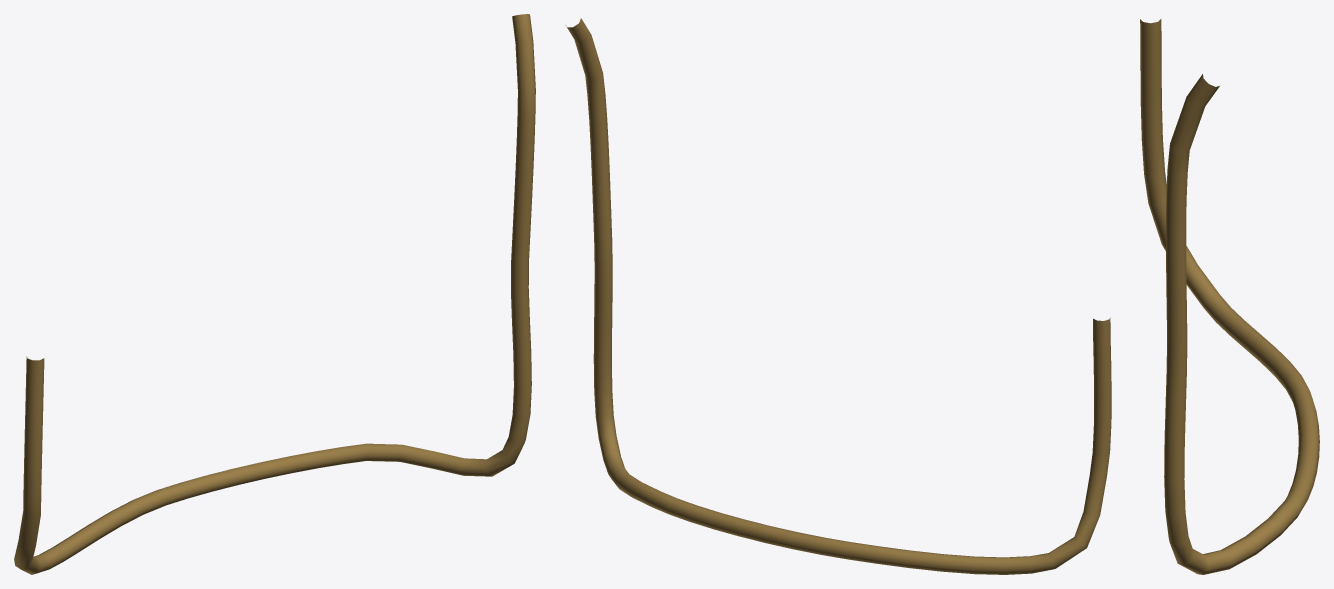
The model's file is SM_TD2_Cable_Tutorial.gltf.
The picture shows the model from 3 angles, left to right: view 1: azimuth 30°, elevation 25°; view 2: azimuth 150°, elevation 25°; view 3: azimuth 270°, elevation 25°; orthographic projection. The views are drawn at different scales.
Visible parts, largest first — view 1: SM_TD2_Cable_Tutorial; view 2: SM_TD2_Cable_Tutorial; view 3: SM_TD2_Cable_Tutorial.
Boxes of the visible parts, box(x1,y1,x2,y2) form: SM_TD2_Cable_Tutorial: box(14, 14, 535, 574); SM_TD2_Cable_Tutorial: box(565, 18, 1111, 574); SM_TD2_Cable_Tutorial: box(1140, 19, 1319, 574).
Bounding box in the file's own units: 1.32 × 1.09 × 0.3392.
